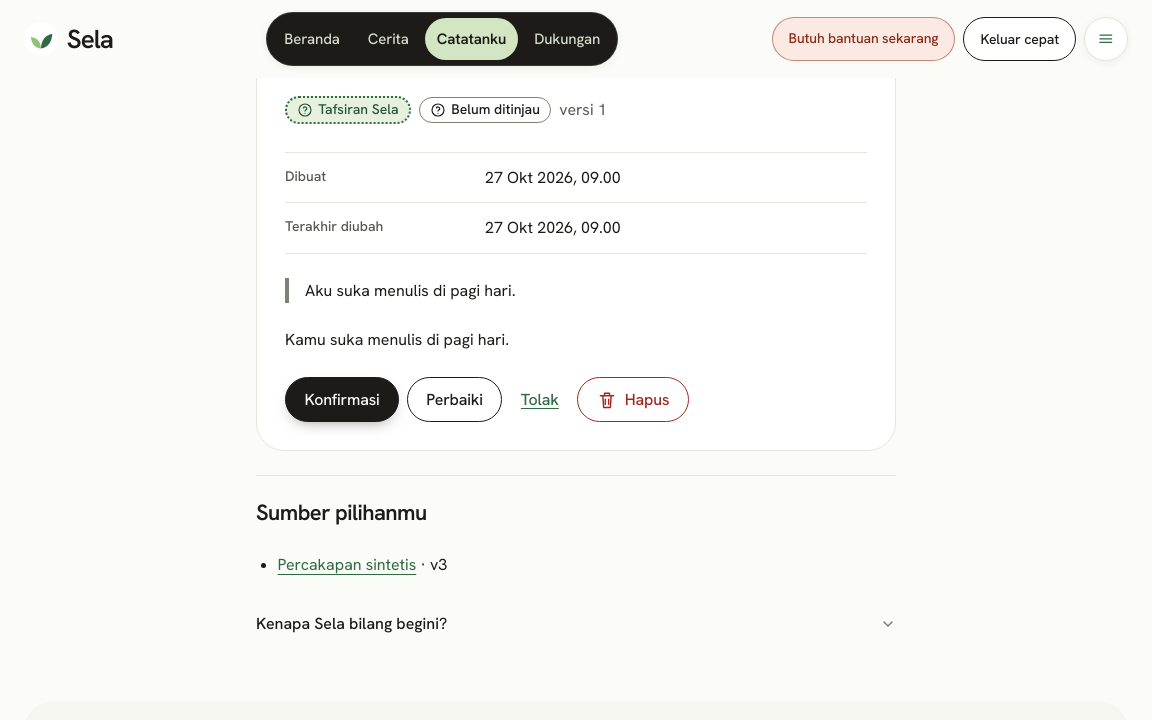
personal memory › shows a proposal's quote and review status on its detail and confirms it
(page scrolled)
Expected: the text "Aku suka menulis di pagi hari." is shown, [305, 280, 516, 301]
Expected: the text "Tafsiran Sela" is shown, [285, 96, 411, 124]
Click the button "Konfirmasi".
click(342, 400)  # box [285, 377, 399, 422]
(page scrolled)
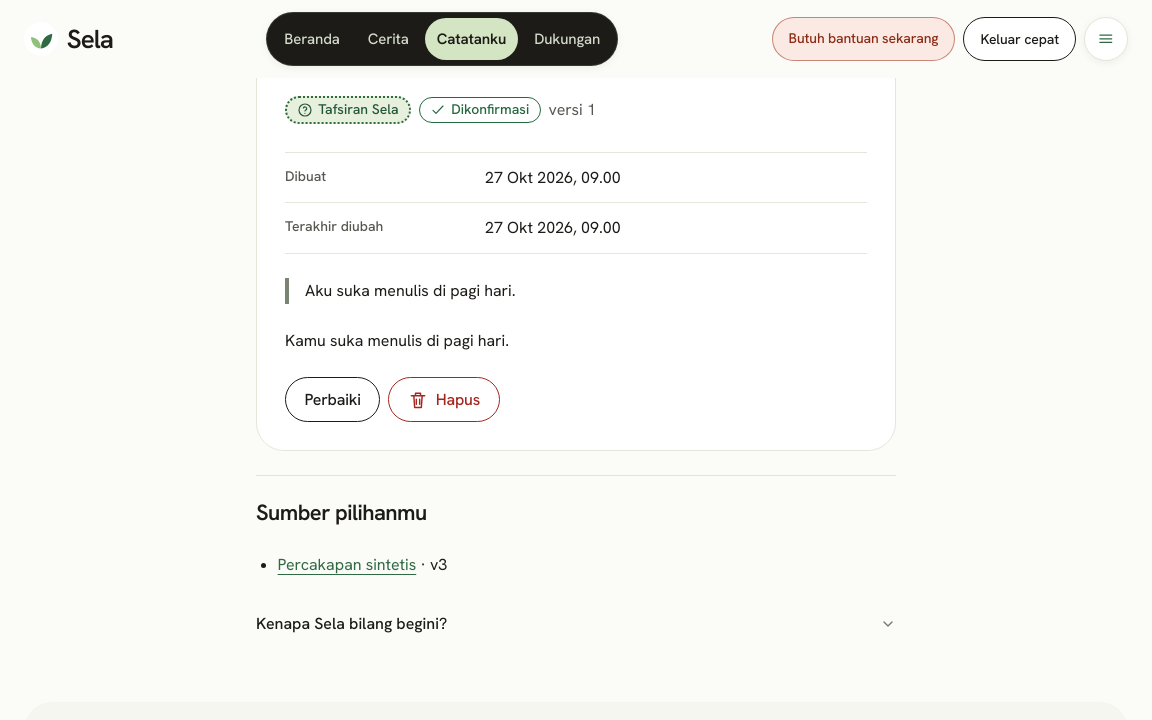
Expected: the text "Dikonfirmasi" is shown, [419, 97, 540, 123]
